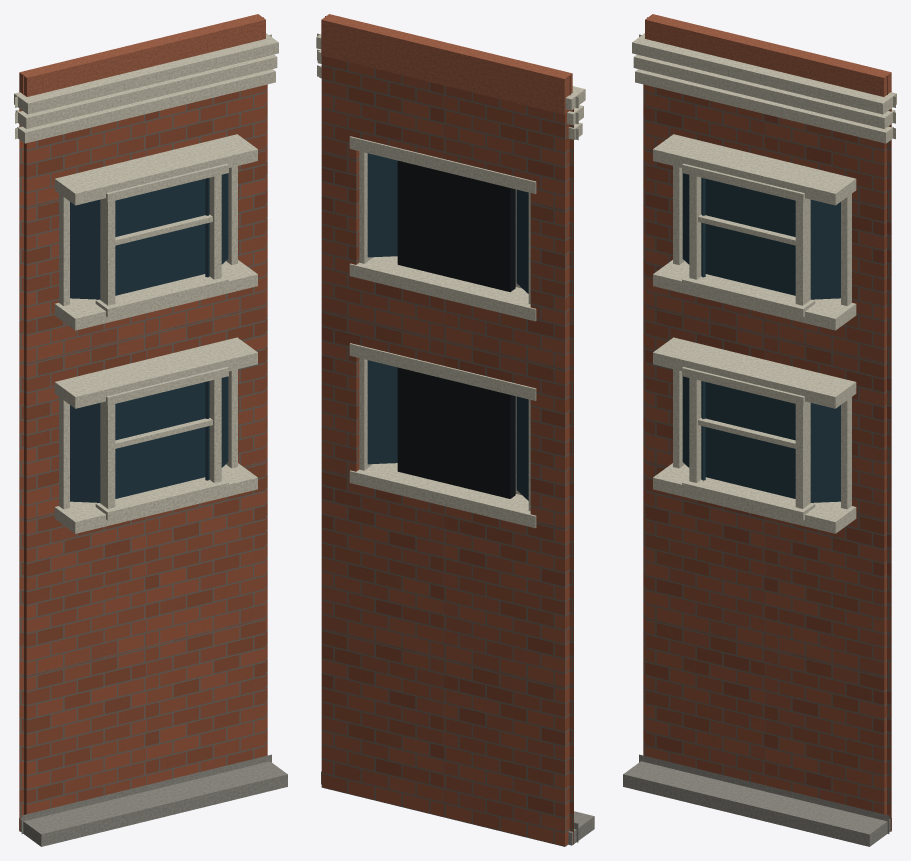
File: VICT17_lod2.glb
The picture shows the model from 3 angles, left to right: view 1: azimuth 30°, elevation 25°; view 2: azimuth 150°, elevation 25°; view 3: azimuth 330°, elevation 25°; orthographic projection.
Visible parts, largest first — view 1: VICT17_FRONT_LOD2; view 2: VICT17_FRONT_LOD2; view 3: VICT17_FRONT_LOD2.
Part boxes in pixels (x1,y1,x2,y2): VICT17_FRONT_LOD2: (14, 14, 287, 846); VICT17_FRONT_LOD2: (316, 14, 594, 846); VICT17_FRONT_LOD2: (623, 14, 896, 846).
Bounding box in the file's own units: 3.44 × 9.66 × 0.695.
7 materials, 5 textured.
